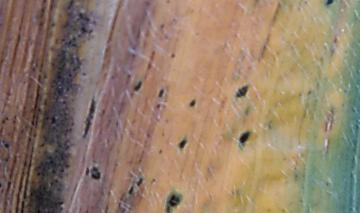tarspot: (31, 186, 64, 213), (35, 160, 70, 185), (43, 133, 71, 160), (53, 61, 81, 87), (47, 109, 75, 133), (67, 1, 95, 24), (62, 24, 95, 43), (52, 87, 74, 109), (57, 41, 80, 61), (85, 99, 95, 137), (165, 191, 182, 213), (87, 165, 102, 181), (239, 129, 250, 146), (236, 85, 249, 99), (133, 81, 142, 91), (179, 138, 187, 149), (128, 185, 134, 194), (158, 89, 164, 98), (326, 1, 335, 7), (3, 143, 11, 149), (137, 178, 143, 186), (190, 100, 196, 107), (156, 103, 161, 109), (171, 52, 175, 58)
